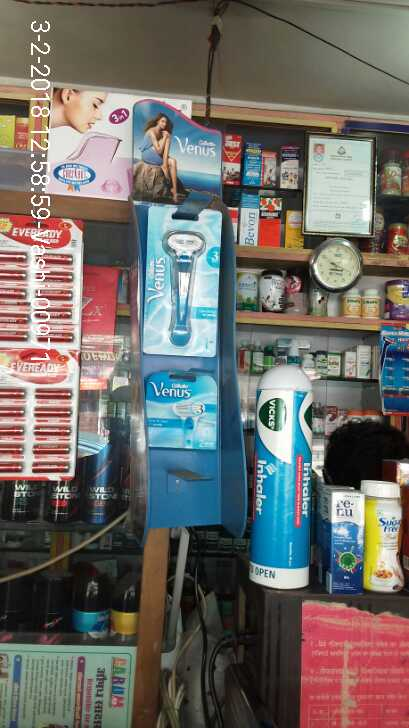beauty: (141, 199, 219, 355), (136, 369, 221, 451)
pharmacy: (253, 372, 316, 594)
